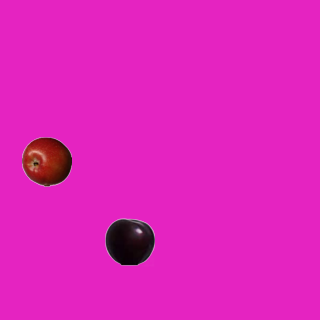Apple Braeburn: (21, 136, 71, 186)
Cherry Wax Black: (104, 216, 154, 266)
